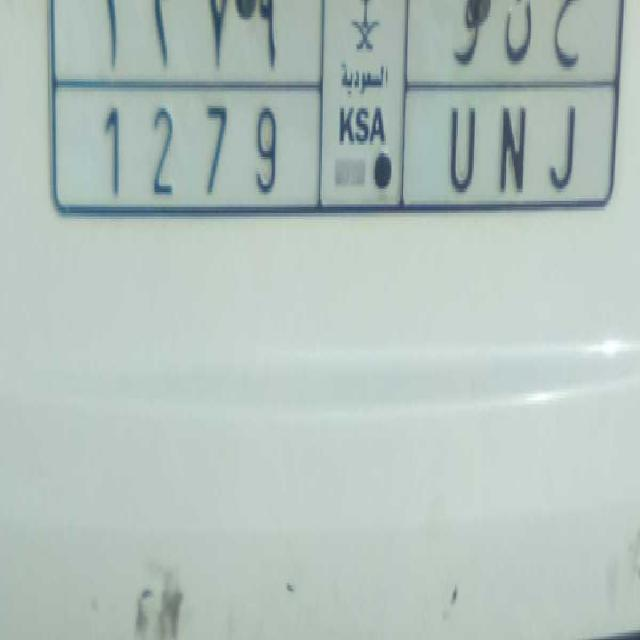license_plate: (73, 81, 587, 227)
